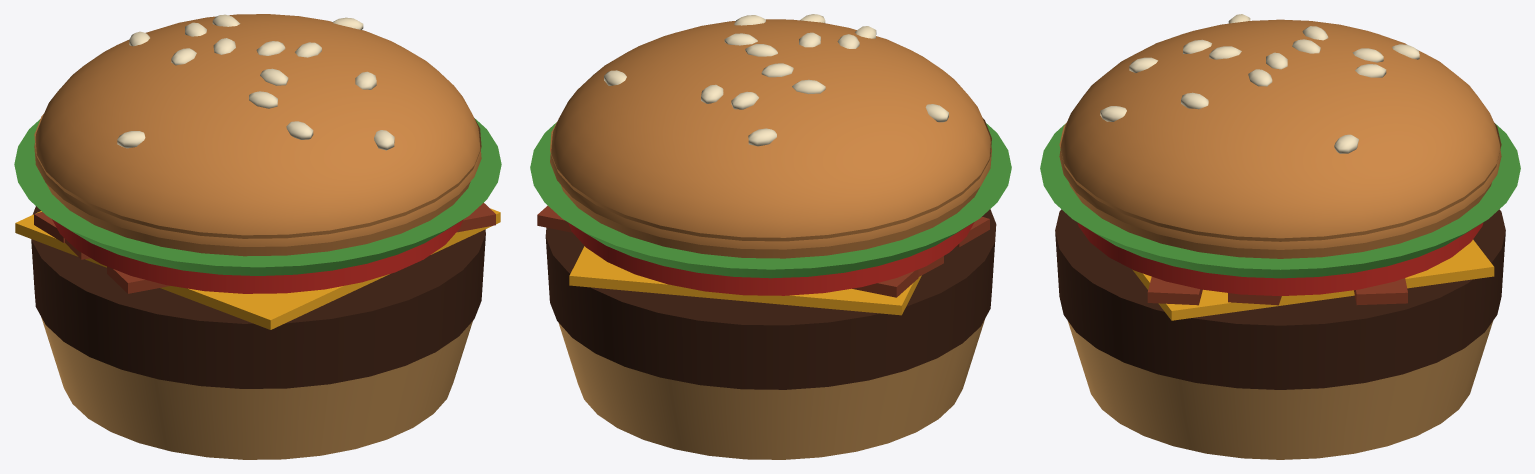
The model's file is burger-res.glb.
3 views of the same model, side by side, from view 1: azimuth 30°, elevation 25°; view 2: azimuth 150°, elevation 25°; view 3: azimuth 270°, elevation 25° (orthographic).
Bounding box in the file's own units: 0.1566 × 0.118 × 0.1566.
